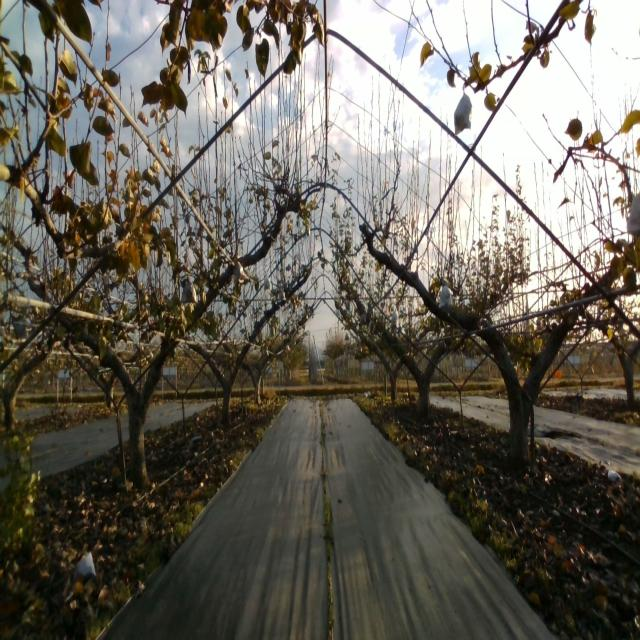pearbags: (454, 92, 472, 135), (181, 281, 198, 304), (438, 285, 451, 310), (234, 261, 246, 286)
